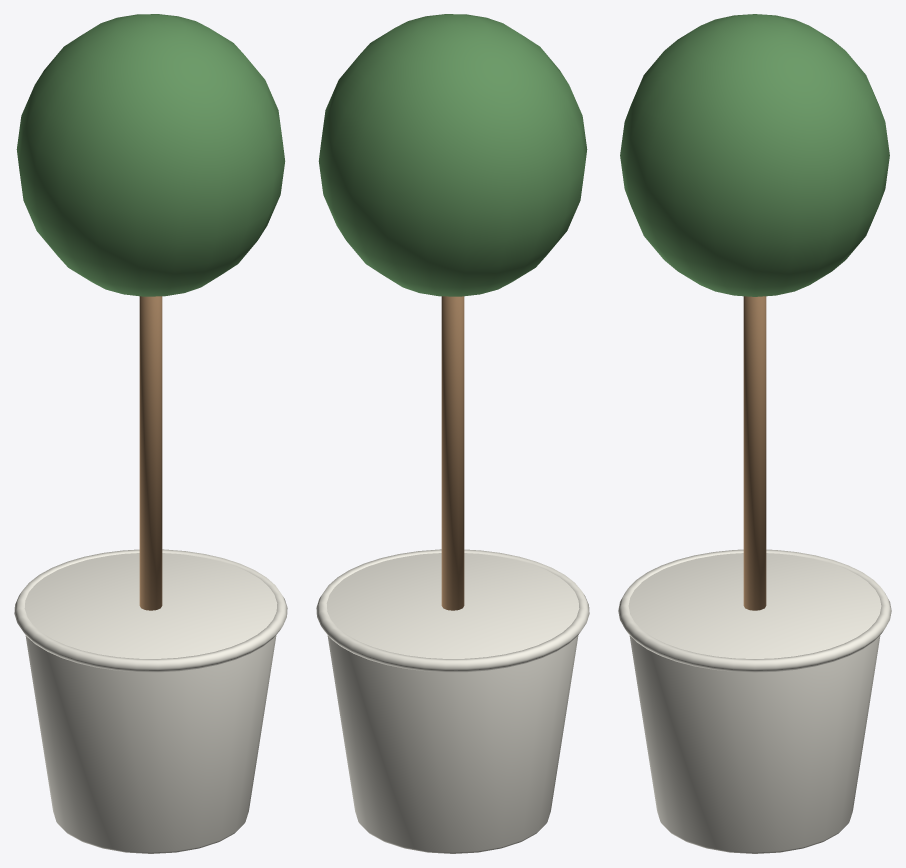
Rendered from atelier-decorative-topiary.glb.
The picture shows the model from 3 angles, left to right: view 1: azimuth 30°, elevation 25°; view 2: azimuth 150°, elevation 25°; view 3: azimuth 270°, elevation 25°; orthographic projection.
Parts seen in each view (by area): view 1: ceramic.061, leaf.023, legs.140; view 2: ceramic.061, leaf.023, legs.140; view 3: ceramic.061, leaf.023, legs.140.
Part boxes in pixels (box(x1,y1,x2,y2)): ceramic.061: box(14, 549, 287, 853); leaf.023: box(16, 14, 285, 296); legs.140: box(139, 296, 162, 610); ceramic.061: box(316, 549, 589, 853); leaf.023: box(318, 14, 587, 296); legs.140: box(441, 296, 464, 610); ceramic.061: box(618, 549, 891, 853); leaf.023: box(620, 14, 889, 296); legs.140: box(743, 296, 766, 610).
Bounding box in the file's own units: 0.608 × 1.94 × 0.608.
